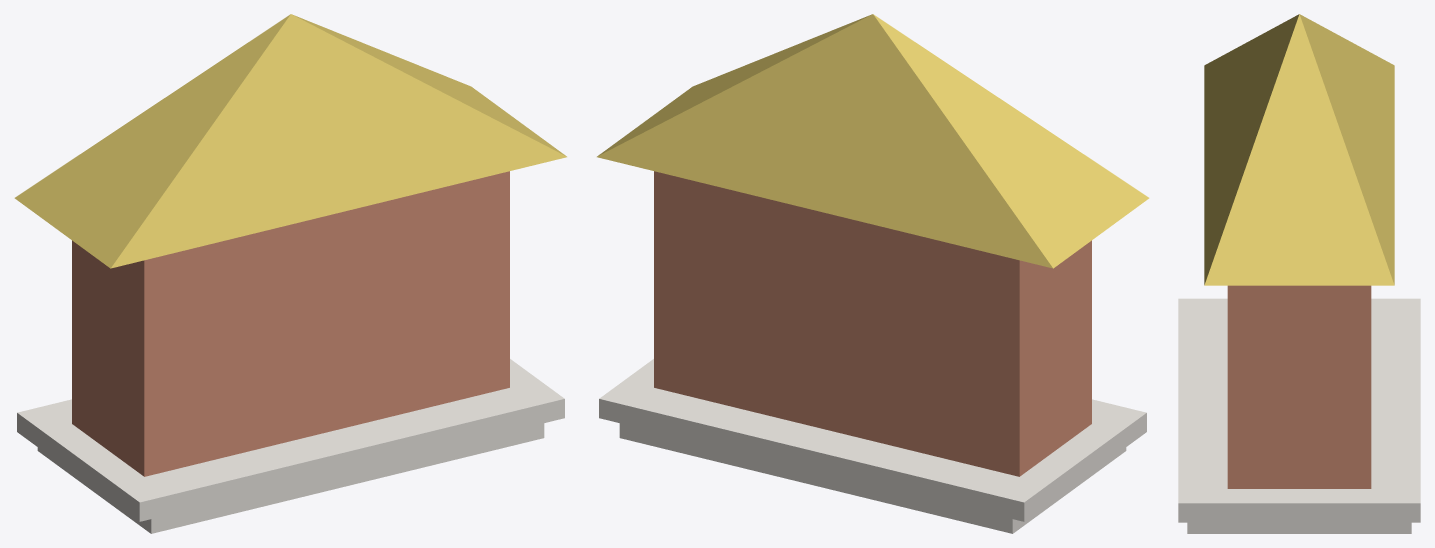
The model's file is 乾清宫.glb.
The picture shows the model from 3 angles, left to right: view 1: azimuth 30°, elevation 25°; view 2: azimuth 150°, elevation 25°; view 3: azimuth 270°, elevation 25°; orthographic projection.
Parts seen in each view (by area): view 1: body, roof, s1, s0; view 2: body, roof, s1, s0; view 3: roof, body, s1, s0.
Part boxes in pixels (bbox=[...]): body: bbox=[72, 171, 509, 476]; roof: bbox=[14, 14, 566, 268]; s1: bbox=[17, 359, 564, 521]; s0: bbox=[37, 423, 544, 533]; body: bbox=[654, 171, 1091, 476]; roof: bbox=[597, 14, 1149, 268]; s1: bbox=[599, 359, 1146, 521]; s0: bbox=[619, 423, 1126, 533]; roof: bbox=[1204, 14, 1394, 285]; body: bbox=[1227, 285, 1371, 488]; s1: bbox=[1178, 298, 1420, 522]; s0: bbox=[1187, 522, 1411, 533].
Size of the model in its own units: 5 by 4.5 by 2.33.
